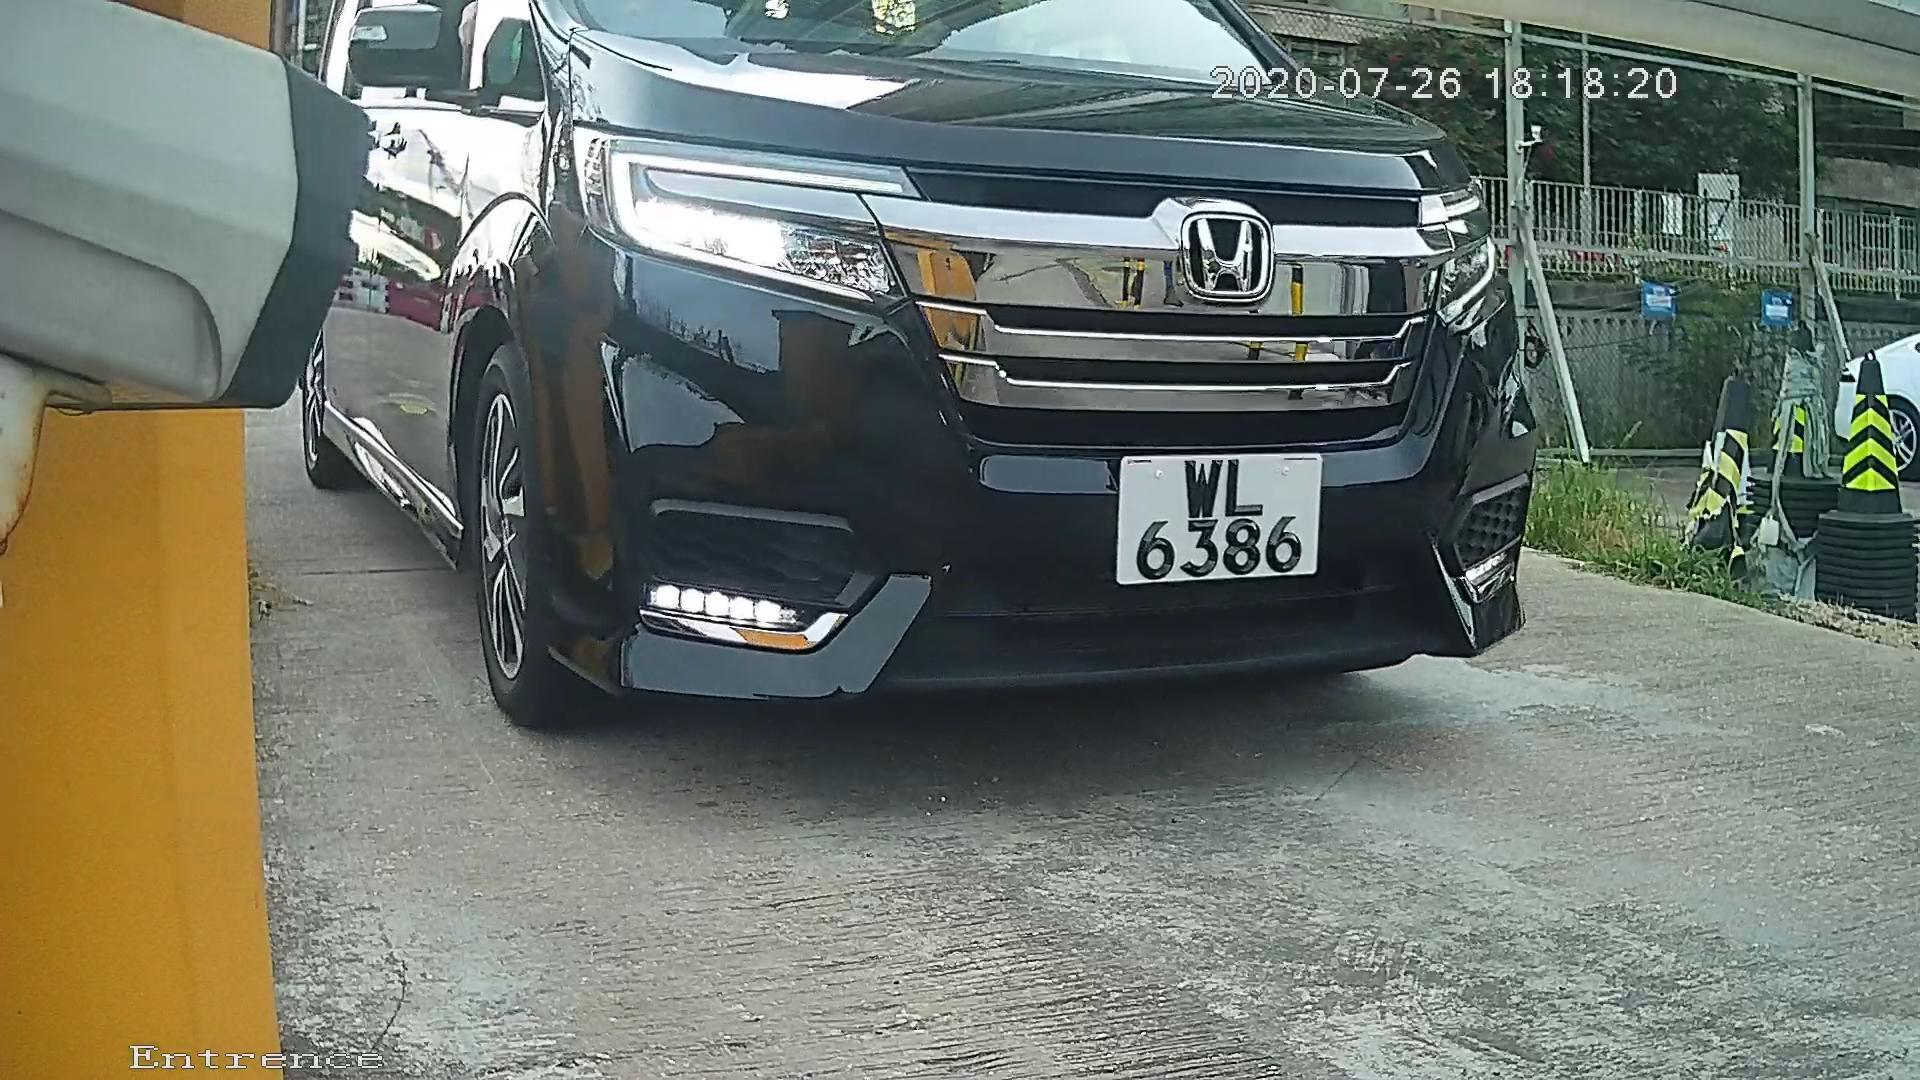License Plate: (1089, 439, 1329, 598)
